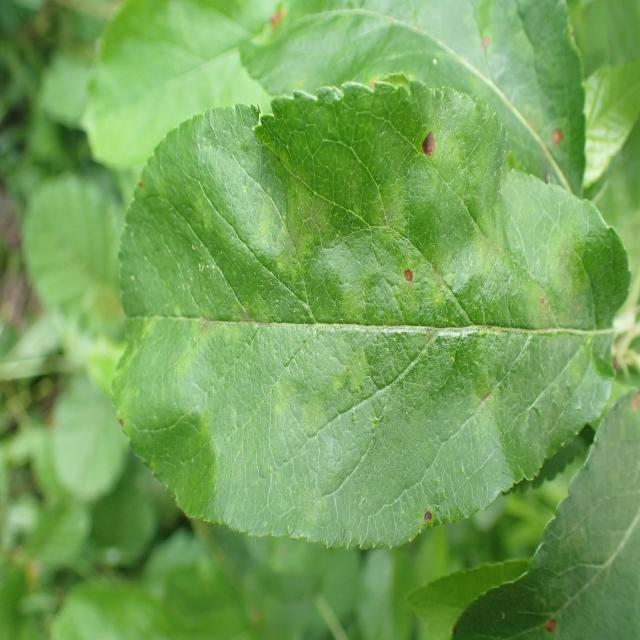scab: (148, 175, 603, 487)
